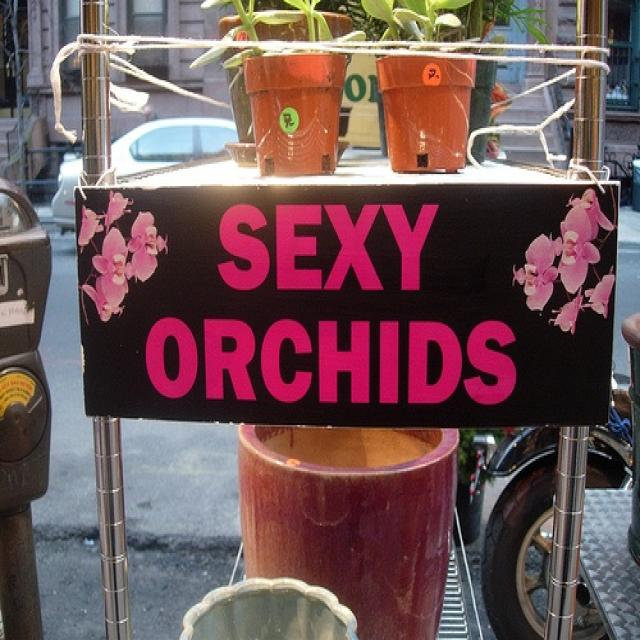car: (54, 111, 244, 222)
motorbike: (475, 379, 636, 633)
pottedplant: (372, 0, 507, 159), (225, 0, 351, 169), (219, 0, 349, 159), (362, 0, 480, 167)
